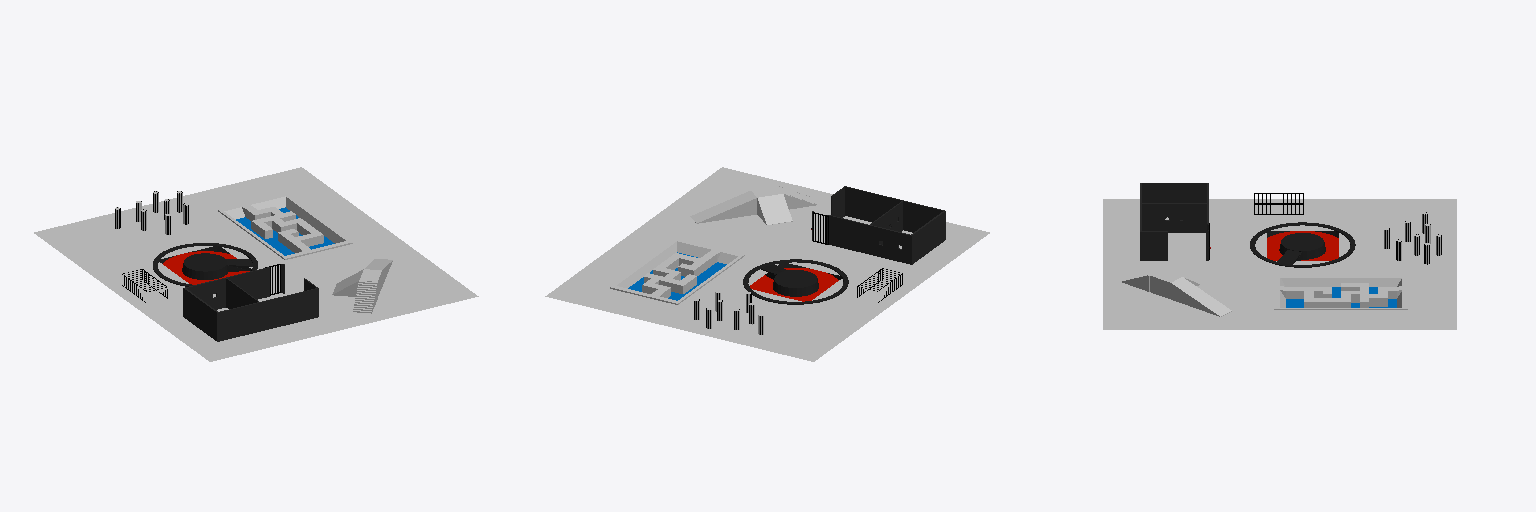
File: volume.obj
3 views of the same model, side by side, from view 1: azimuth 30°, elevation 25°; view 2: azimuth 150°, elevation 25°; view 3: azimuth 270°, elevation 25° (orthographic).
Parts seen in each view (by area): view 1: Plane.001_Plane.003, Cube_Cube.001, Plane_Plane.001, Circle, Cube.002_Cube.003; view 2: Plane.001_Plane.003, Cube_Cube.001, Plane_Plane.001, Circle, Cube.002_Cube.003; view 3: Plane.001_Plane.003, Plane_Plane.001, Cube_Cube.001, Circle, Cube.002_Cube.003.
Boxes of the visible parts, x1=… form: Plane.001_Plane.003: x1=34, y1=167, x2=478, y2=361; Cube_Cube.001: x1=183, y1=264, x2=318, y2=341; Plane_Plane.001: x1=218, y1=193, x2=352, y2=259; Circle: x1=153, y1=243, x2=257, y2=286; Cube.002_Cube.003: x1=332, y1=259, x2=392, y2=313; Plane.001_Plane.003: x1=545, y1=167, x2=989, y2=361; Cube_Cube.001: x1=812, y1=186, x2=945, y2=264; Plane_Plane.001: x1=610, y1=238, x2=744, y2=304; Circle: x1=743, y1=259, x2=848, y2=304; Cube.002_Cube.003: x1=690, y1=186, x2=816, y2=224; Plane.001_Plane.003: x1=1103, y1=199, x2=1456, y2=329; Plane_Plane.001: x1=1274, y1=276, x2=1407, y2=309; Cube_Cube.001: x1=1140, y1=183, x2=1208, y2=260; Circle: x1=1250, y1=222, x2=1355, y2=267; Cube.002_Cube.003: x1=1122, y1=269, x2=1231, y2=316.
Bounding box in the file's own units: 33.6 × 4.92 × 38.32.